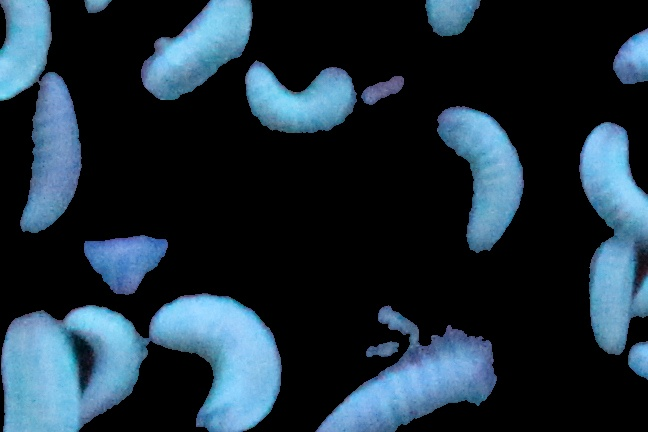larvae: (147, 288, 282, 427), (305, 339, 503, 432), (437, 105, 526, 263), (139, 1, 256, 94), (568, 115, 648, 241), (5, 308, 79, 432), (69, 306, 149, 419), (26, 63, 78, 234), (249, 63, 356, 138), (585, 238, 637, 357), (1, 1, 49, 103)
